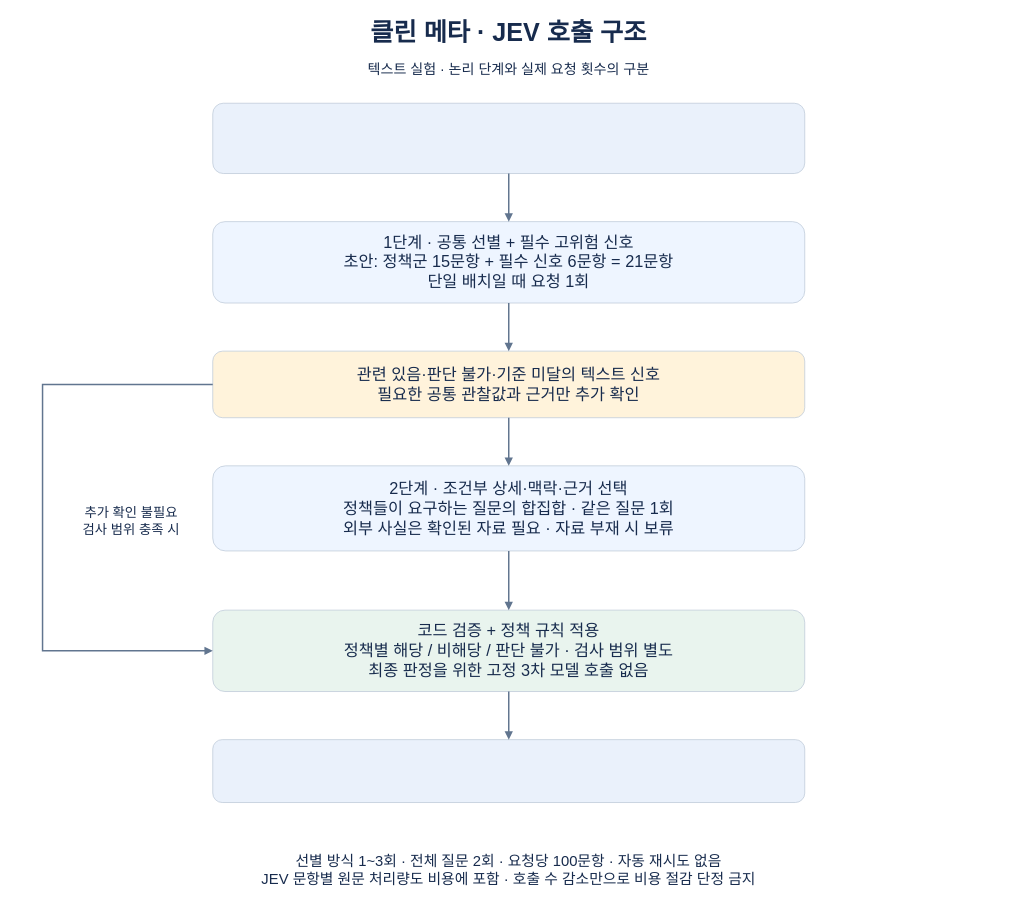
This 1017x907 diagram has some shape labels left out. The centre of each missing label's shape, as x and y in pixels:
제목·본문 텍스트·선택 모델·프롬프트 검증 이미지·영상·음성은 별도 검증 · 이번 요청에 포함하지 않음: [508,138]
텍스트 관찰값·정책별 후보·근거 제공 자료 미확인 시 보류 · 비텍스트 자료 미제공만으로 보류하지 않음: [508,771]
